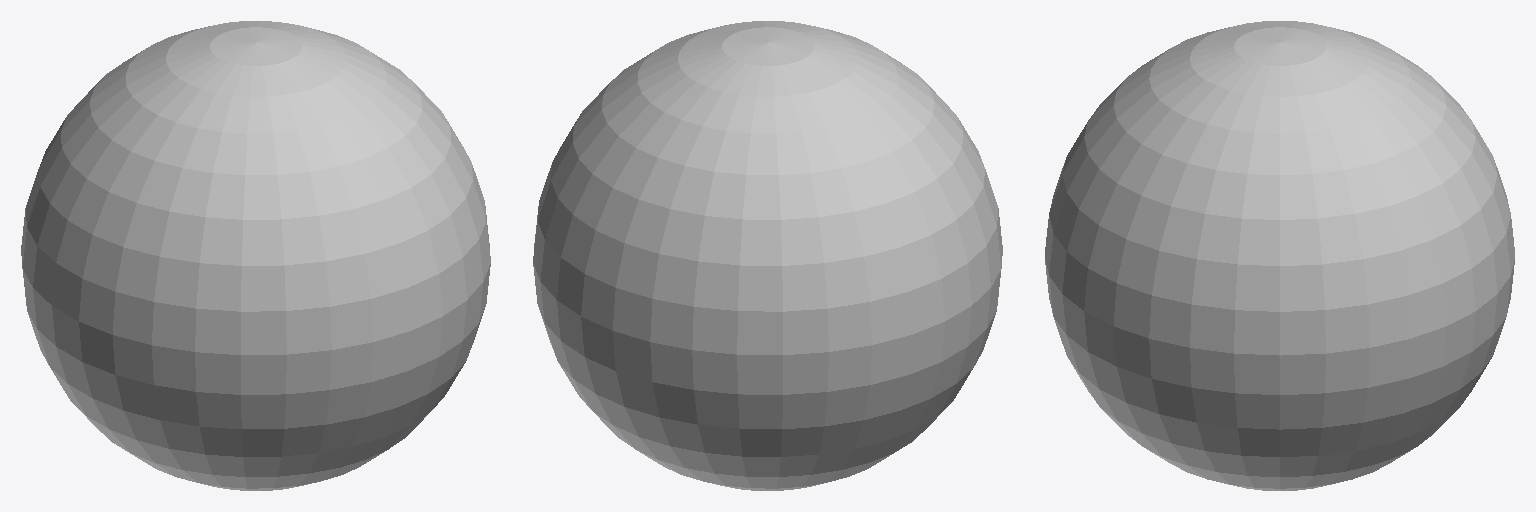
File: Sol.obj
3 views of the same model, side by side, from view 1: azimuth 30°, elevation 25°; view 2: azimuth 150°, elevation 25°; view 3: azimuth 270°, elevation 25° (orthographic).
Parts seen in each view (by area): view 1: Sphere; view 2: Sphere; view 3: Sphere.
Boxes of the visible parts, box(x1,y1,x2,y2) form: Sphere: box(21, 21, 490, 490); Sphere: box(533, 21, 1002, 490); Sphere: box(1045, 21, 1514, 490).
Bounding box in the file's own units: 3.34 × 3.34 × 3.34.